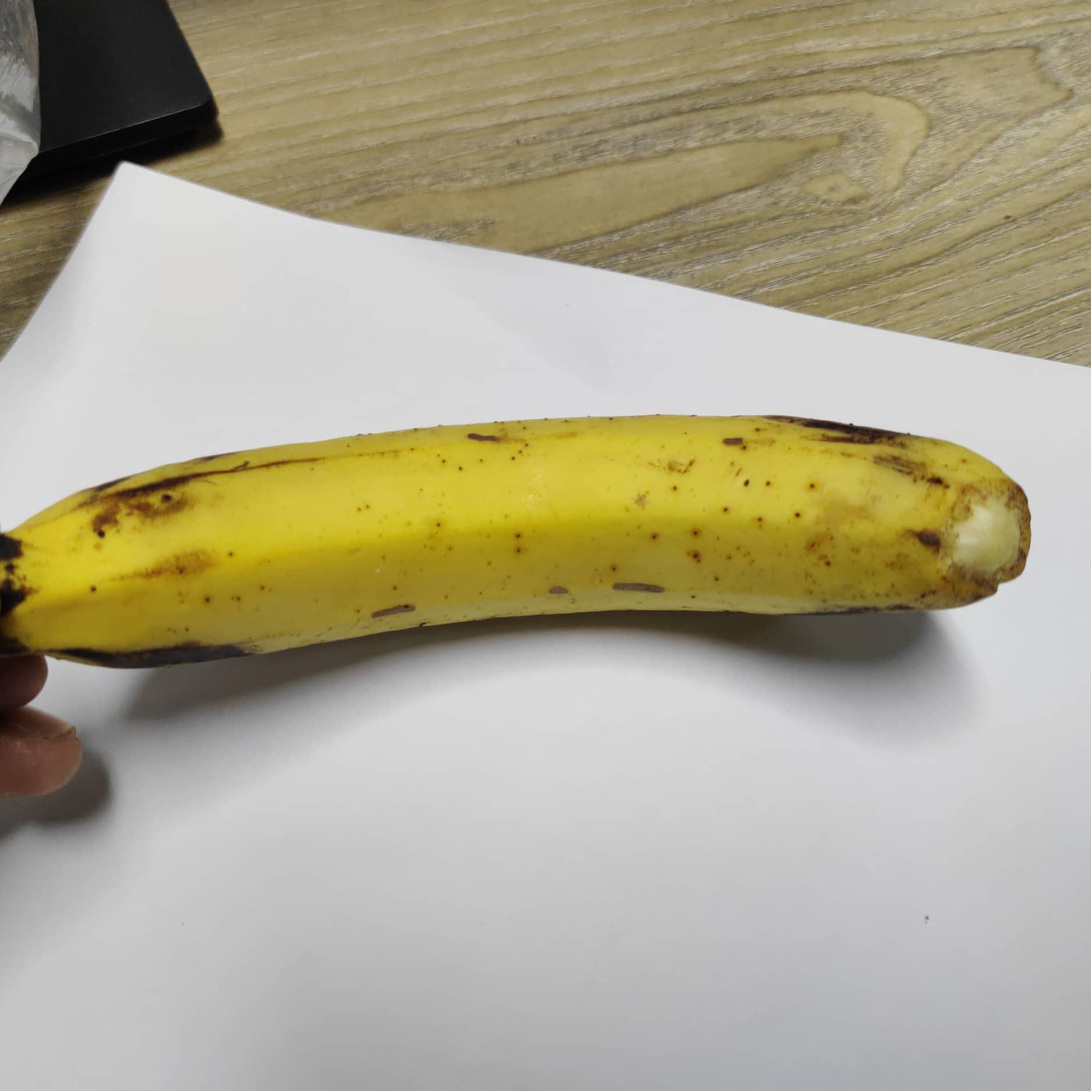Banana Ripe: (5, 369, 1068, 772)
